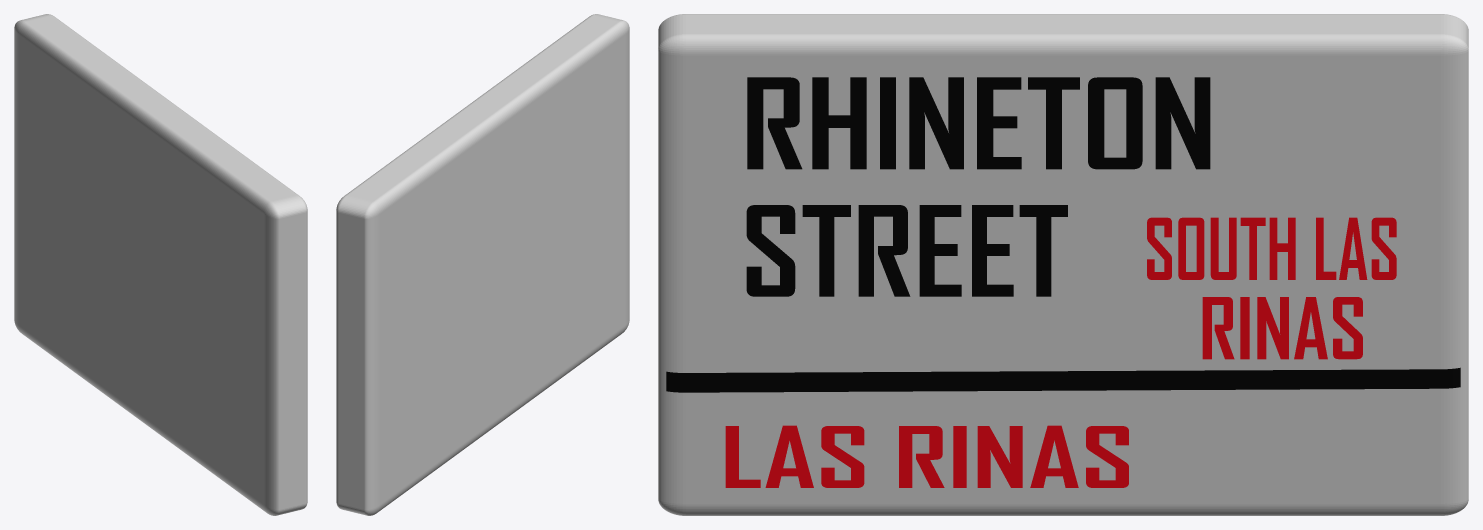
Rendered from uk_styled_street_sign_35.fbx.
The picture shows the model from 3 angles, left to right: view 1: azimuth 30°, elevation 25°; view 2: azimuth 150°, elevation 25°; view 3: azimuth 270°, elevation 25°; orthographic projection. The views are drawn at different scales.
Parts seen in each view (by area): view 1: Cube; view 2: Cube; view 3: Cube, Text, Text.001, Text.002, Text.003, Text.004.
Part boxes in pixels (x1,y1,x2,y2): Cube: (14, 14, 307, 515); Cube: (336, 14, 629, 515); Cube: (658, 14, 1468, 515); Text: (747, 77, 1210, 169); Text.001: (746, 205, 1067, 296); Text.002: (725, 425, 1128, 487); Text.003: (1147, 217, 1396, 279); Text.004: (1202, 297, 1362, 359).
Size of the model in its own units: 1.63 by 11.91 by 18.18.
